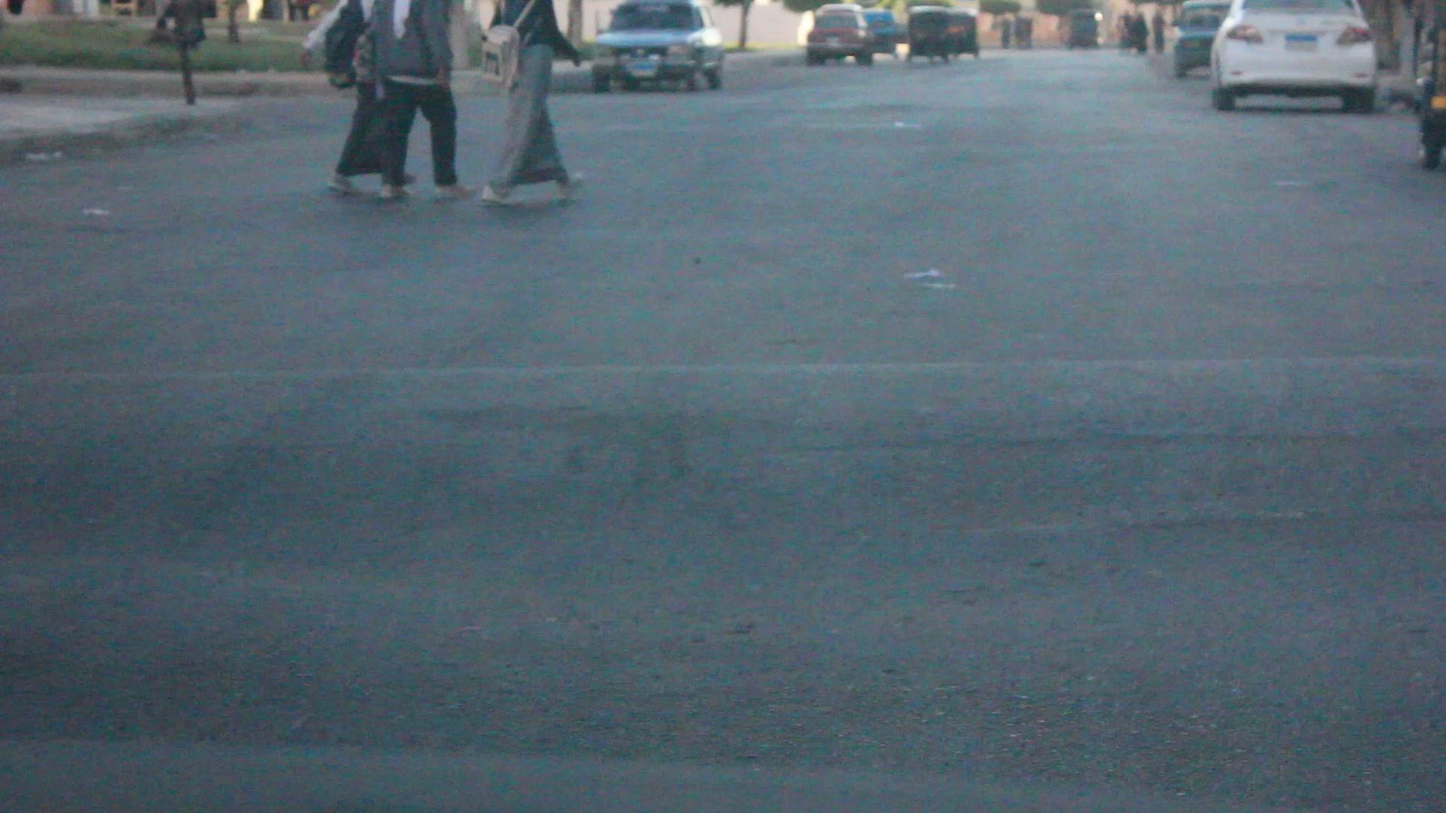Bump: (6, 548, 1446, 811), (0, 363, 1446, 550)
